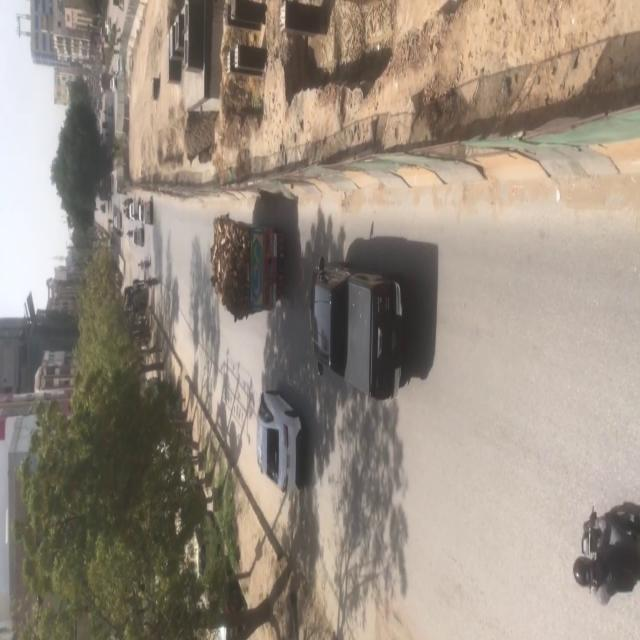car: (302, 248, 421, 406), (250, 384, 308, 507)
motorbike: (136, 257, 150, 272)
truck: (204, 203, 290, 334)
